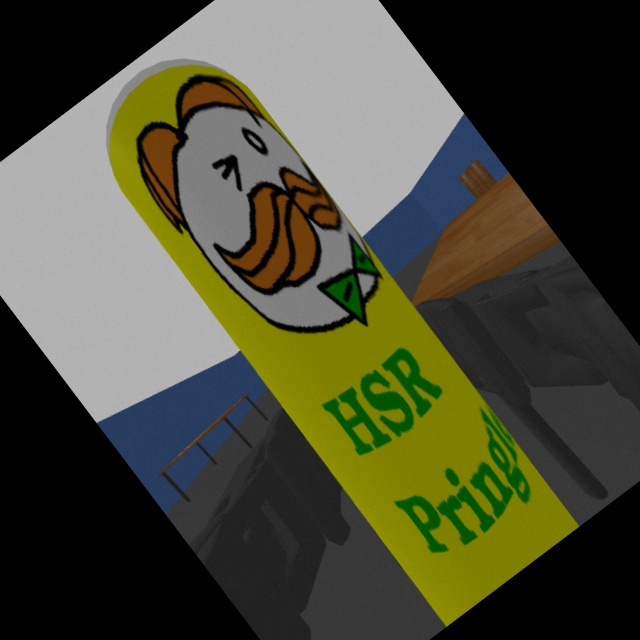chipsdose_gelb: (107, 58, 581, 626)
